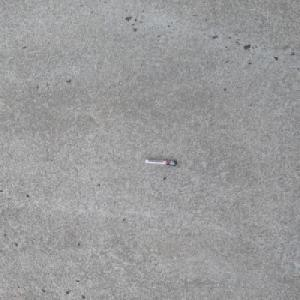Battery: (143, 159, 177, 166)
